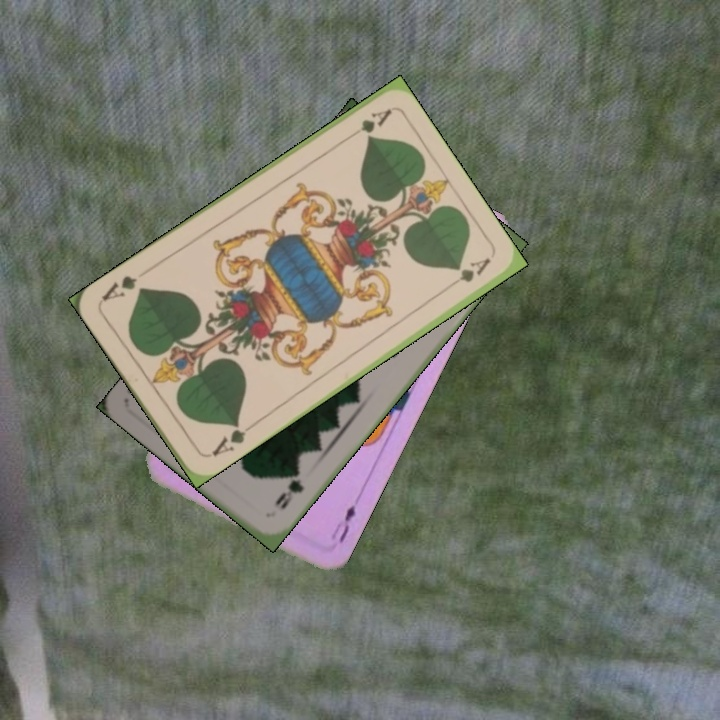EU: (334, 500, 359, 546)
G9: (270, 467, 307, 512)
GA: (203, 418, 255, 459), (340, 105, 394, 144)
